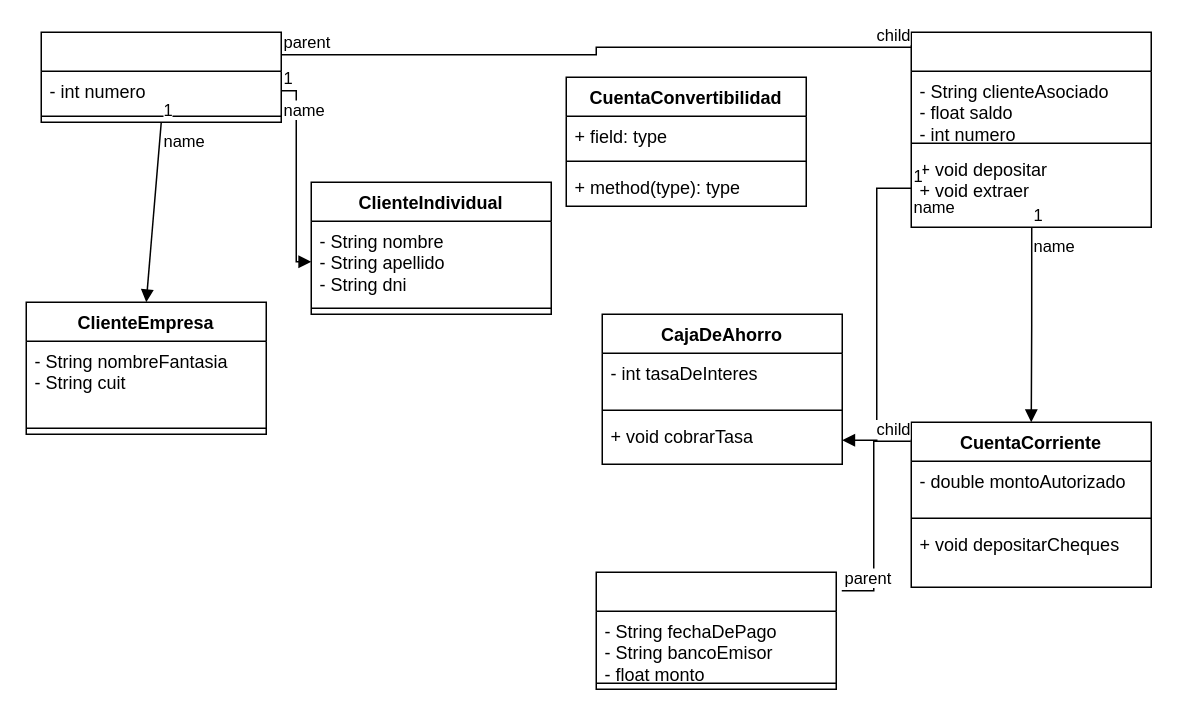
Some shapes in this 1178 by 717 pixel diagram are drawn without their labels. Here are the shapes that lost their labels. From the top down, the box of each, then its label:
(40, 31, 281, 122): Cliente
(910, 31, 1151, 227): Cuenta
(595, 571, 836, 689): Cheque
